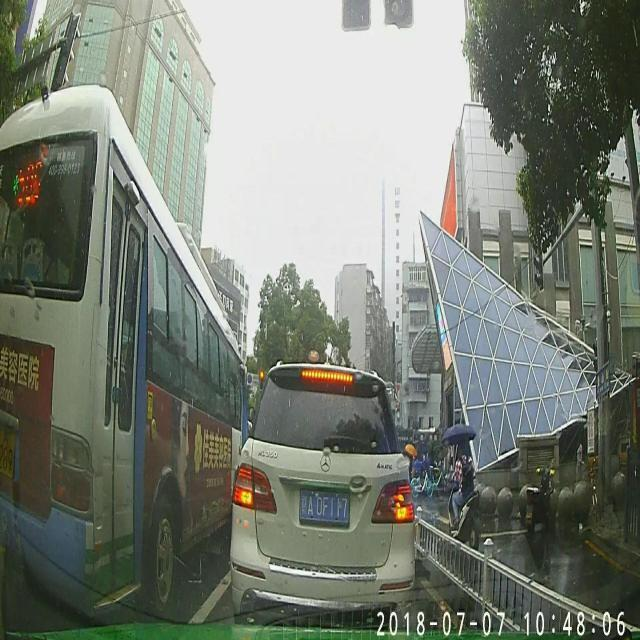car: (228, 358, 414, 630)
